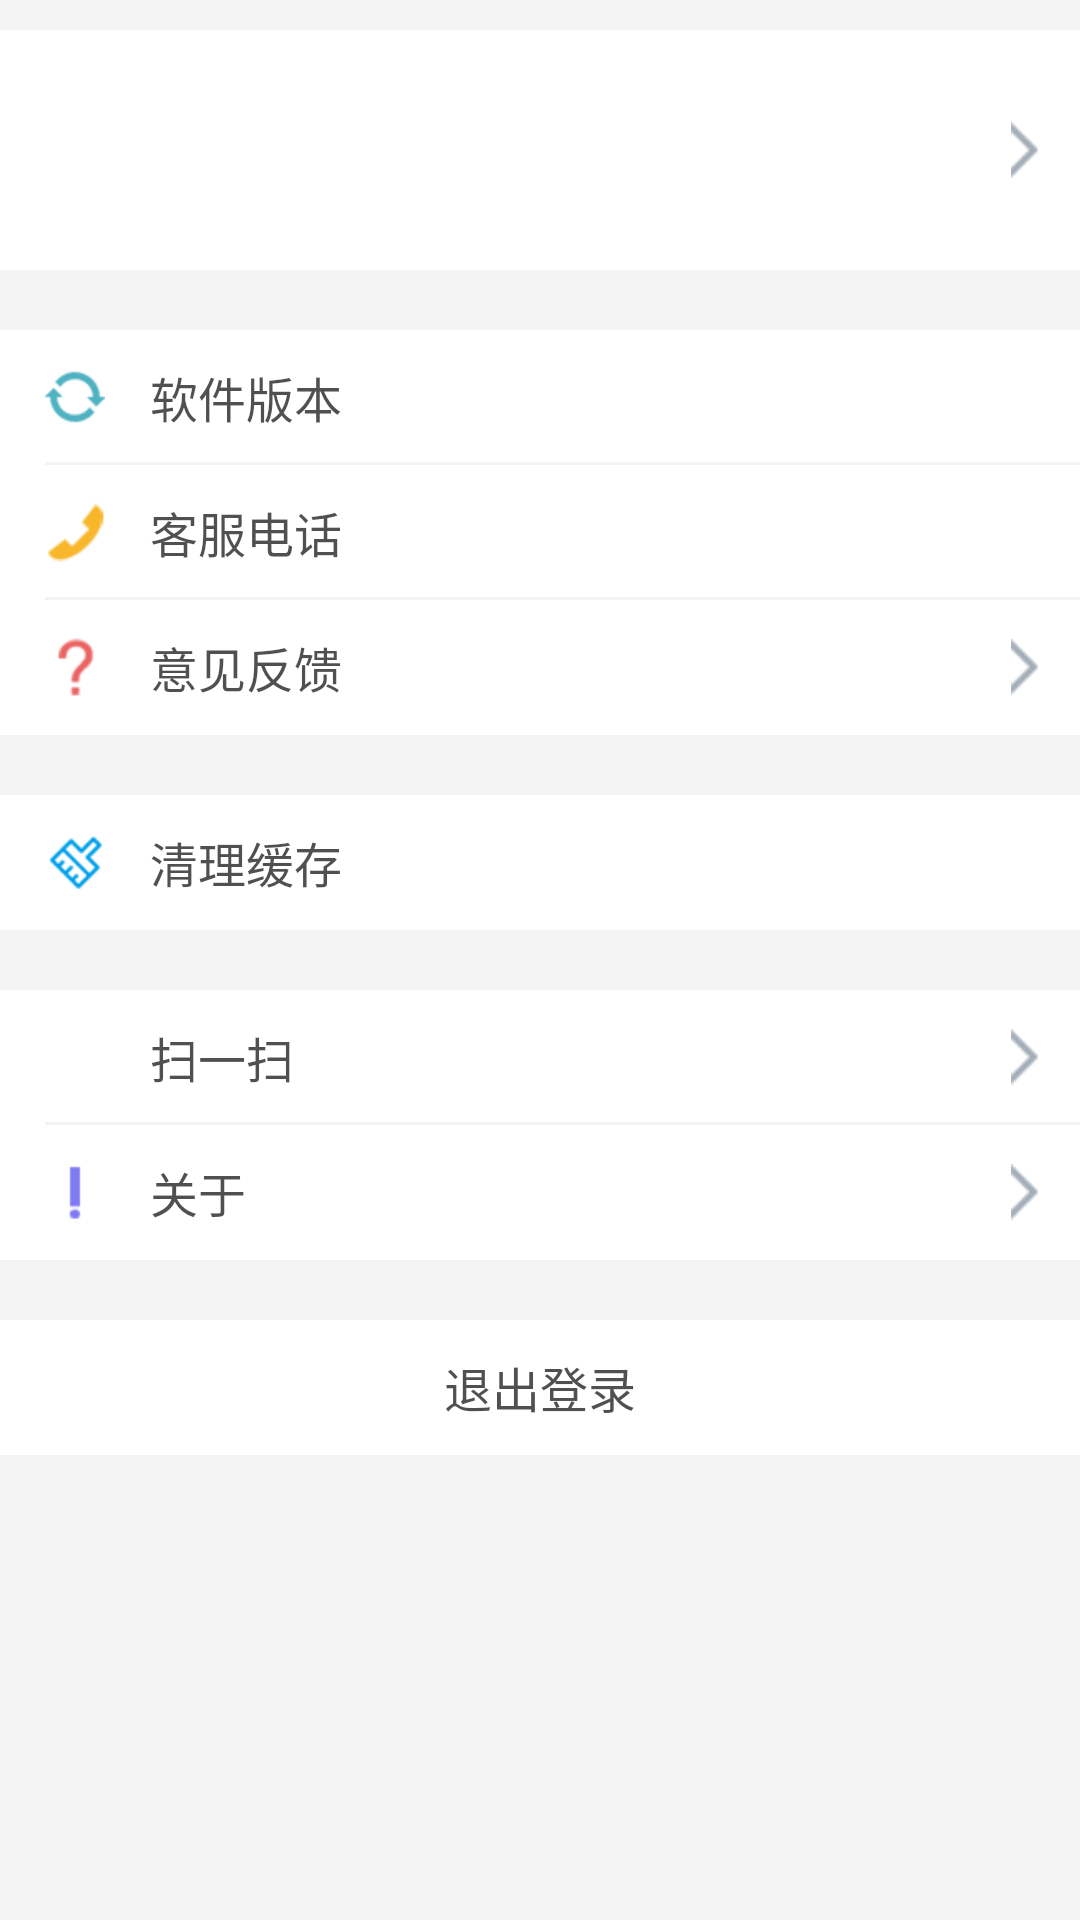

Icons on this 1080*1920 Android screen, each with the point to tap as point (x, y):
me about: point (75, 1193)
me call: point (76, 532)
me clear: point (75, 862)
me help: point (76, 667)
me renew: point (75, 397)
